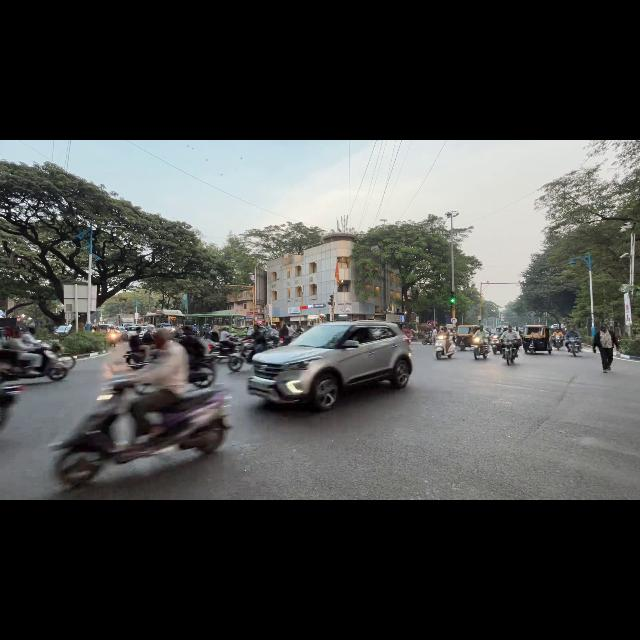bus: (144, 310, 247, 335)
car: (248, 321, 412, 410), (54, 325, 72, 337)
motorcycle: (52, 377, 229, 487), (0, 343, 74, 381), (0, 386, 22, 429), (189, 354, 216, 388), (189, 355, 215, 388), (228, 340, 254, 371), (209, 342, 234, 362), (435, 335, 451, 359), (473, 337, 490, 359), (503, 339, 517, 365), (106, 332, 122, 346), (490, 335, 501, 354), (567, 338, 578, 356), (552, 336, 564, 350), (422, 332, 434, 344)
